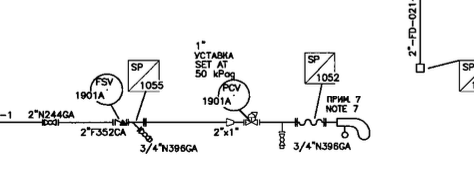Instrument-offset: (72, 68, 125, 106), (197, 78, 252, 112)
